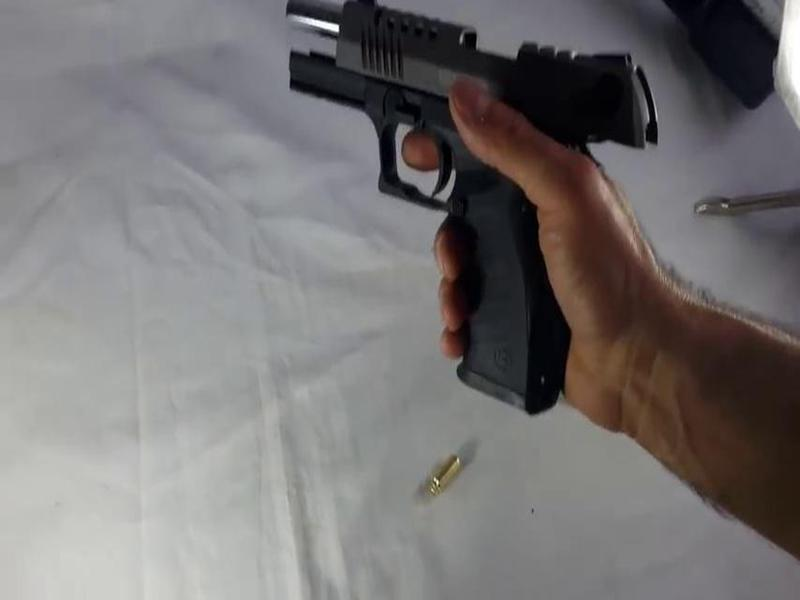Pistola: (257, 1, 647, 416)
